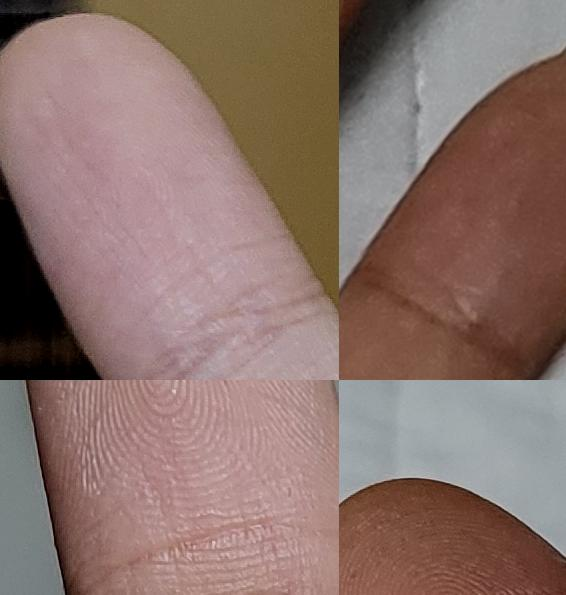Fingerprints: (0, 11, 302, 380), (25, 380, 339, 595), (354, 55, 566, 373), (339, 476, 566, 595)
